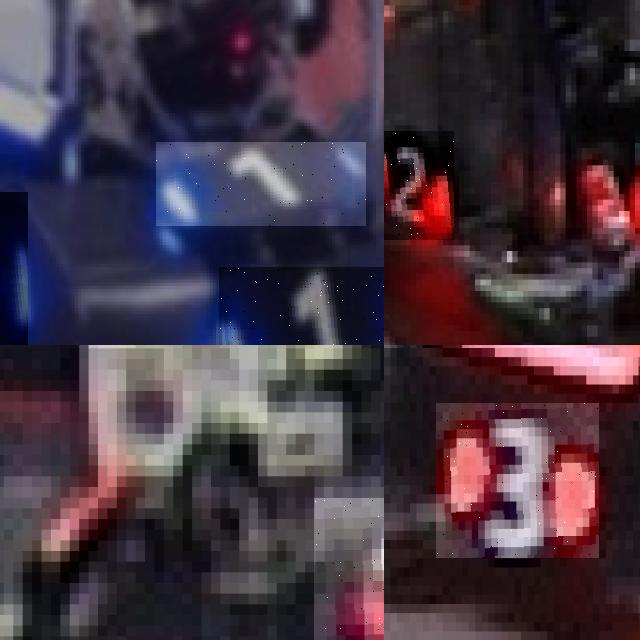B1: (156, 142, 366, 226), (219, 267, 384, 345), (0, 191, 27, 345)
R2: (384, 131, 453, 239)
R3: (436, 403, 599, 558), (314, 497, 384, 640)
